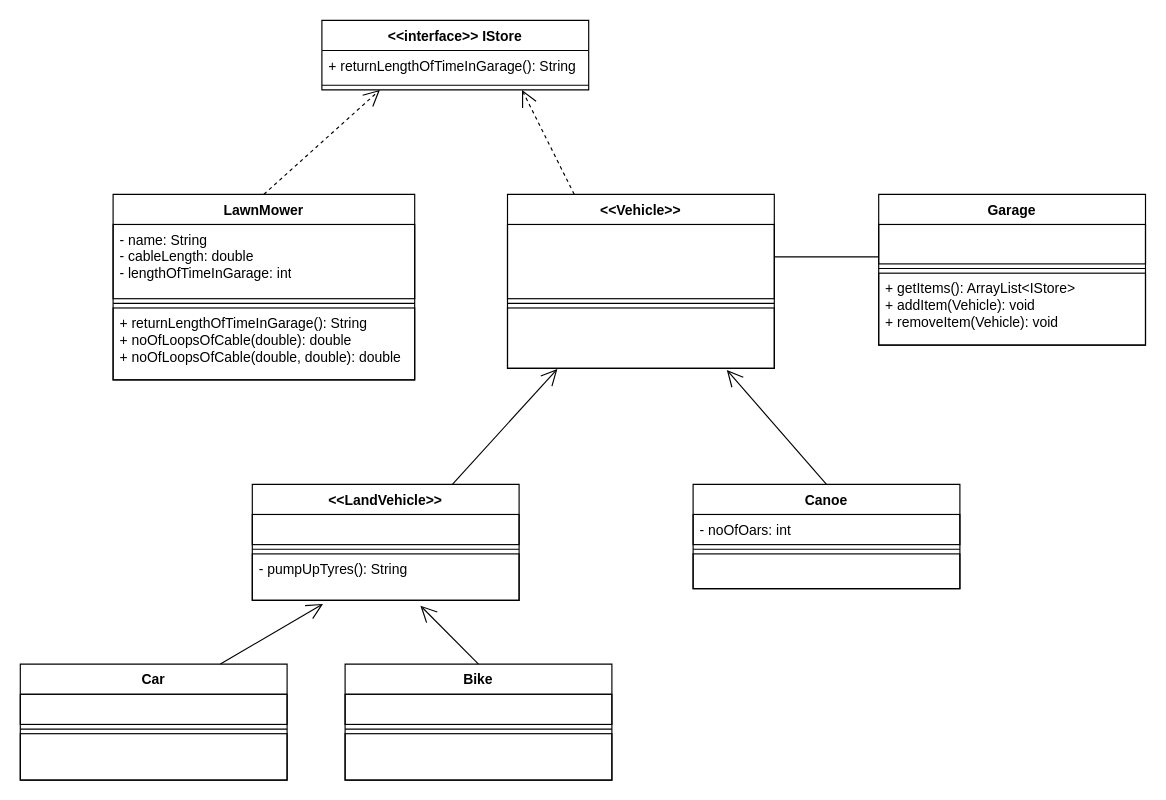
This 1166x800 diagram has some shape labels left out. The shapes that lost their labels are listed below. From the top down, each one's centre as x and y in pixels, then its label:
At (x=640, y=261): "- name: String - maxOccupancy: int - lengthOfTimeInGarage: int".
At (x=1012, y=243): "- vehicles: ArrayList<IStore>".
At (x=640, y=337): "+ returnAverageSpeed() + returnLengthOfTimeInGarage(): String".
At (x=385, y=529): "- noOfWheels: int".
At (x=153, y=708): "- doorsLocked: boolean".
At (x=478, y=708): "- electricBike: boolean".
